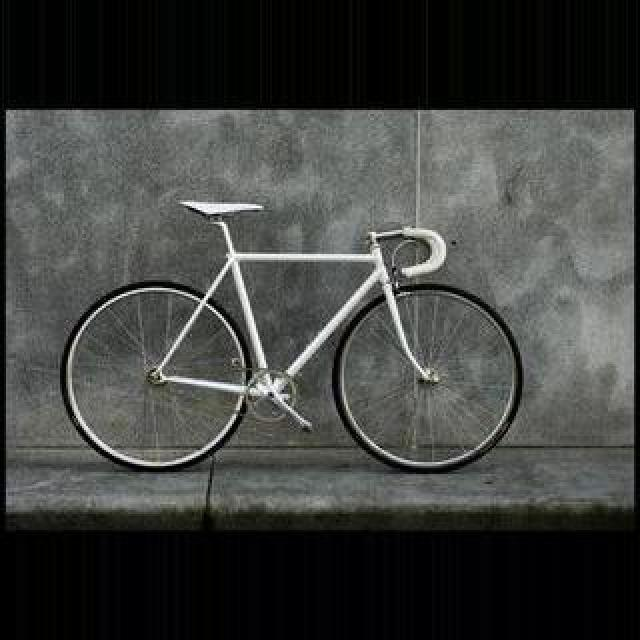Person: (58, 196, 528, 478)
